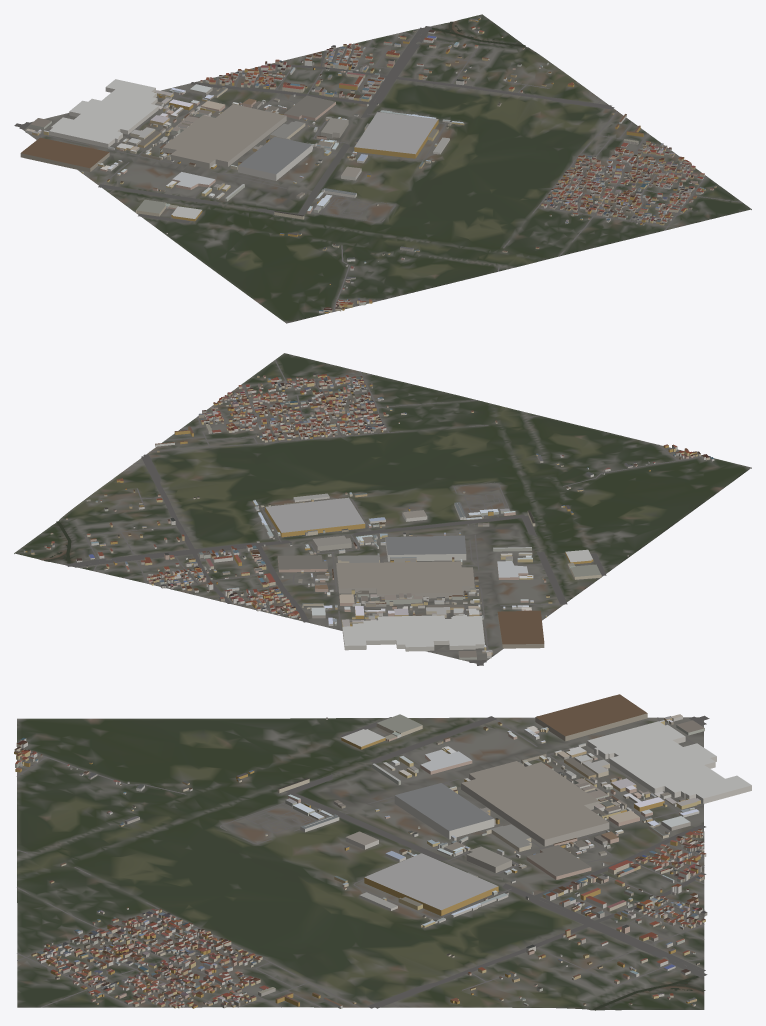
3 views of the same model, one above another, from view 1: azimuth 30°, elevation 25°; view 2: azimuth 150°, elevation 25°; view 3: azimuth 270°, elevation 25° (orthographic). The views are drawn at different scales.
Parts seen in each view (by area): view 1: ground, buildings, roads; view 2: ground, buildings, roads; view 3: ground, buildings, roads.
Boxes of the visible parts, box(x1,y1,x2,y2) form: ground: box(19, 14, 751, 323); buildings: box(20, 17, 716, 313); roads: box(14, 26, 742, 311); ground: box(14, 353, 751, 663); buildings: box(23, 373, 714, 659); roads: box(66, 360, 701, 665); ground: box(17, 717, 704, 1010); buildings: box(14, 694, 751, 1008); roads: box(16, 715, 709, 1008).
Bounding box in the file's own units: 1493 × 28.81 × 1506.
